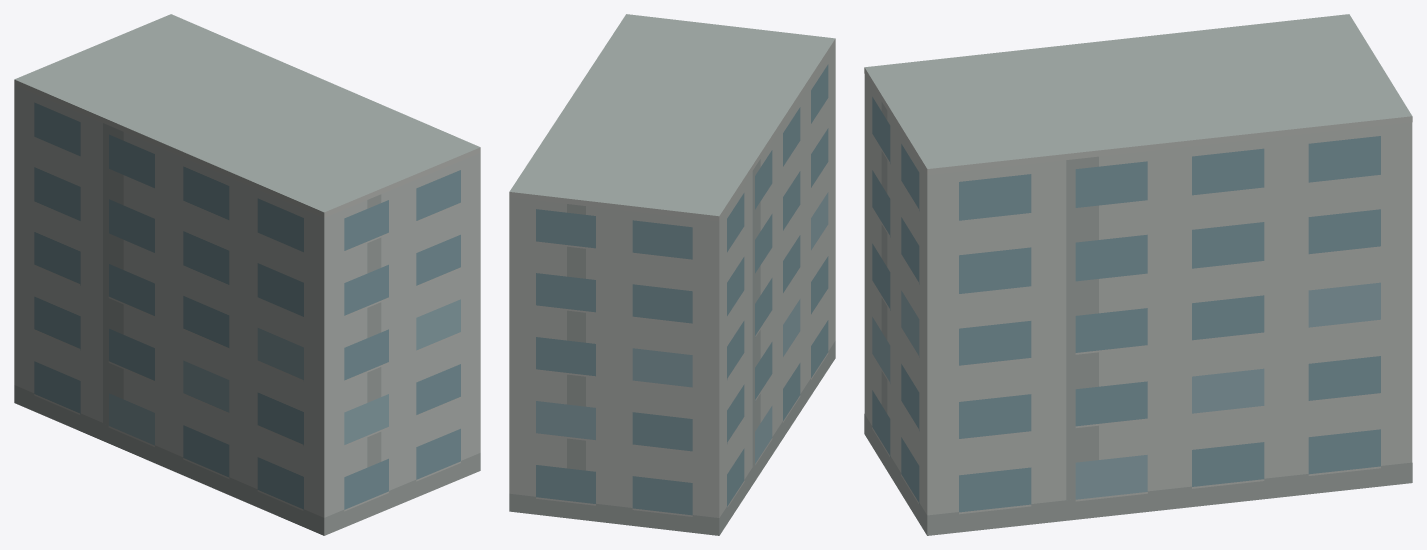
Rendered from survey-upis-32765532.glb.
3 renders of one model, left to right at view 1: azimuth 30°, elevation 25°; view 2: azimuth 150°, elevation 25°; view 3: azimuth 270°, elevation 25°, orthographic. The views are drawn at different scales.
Parts seen in each view (by area): view 1: survey-upis-32765532.tmp; view 2: survey-upis-32765532.tmp; view 3: survey-upis-32765532.tmp.
Part boxes in pixels (<box>): survey-upis-32765532.tmp: <box>14,14,480,535</box>; survey-upis-32765532.tmp: <box>509,14,835,535</box>; survey-upis-32765532.tmp: <box>864,14,1412,535</box>.
Bounding box in the file's own units: 13.11 × 14.45 × 19.58.
